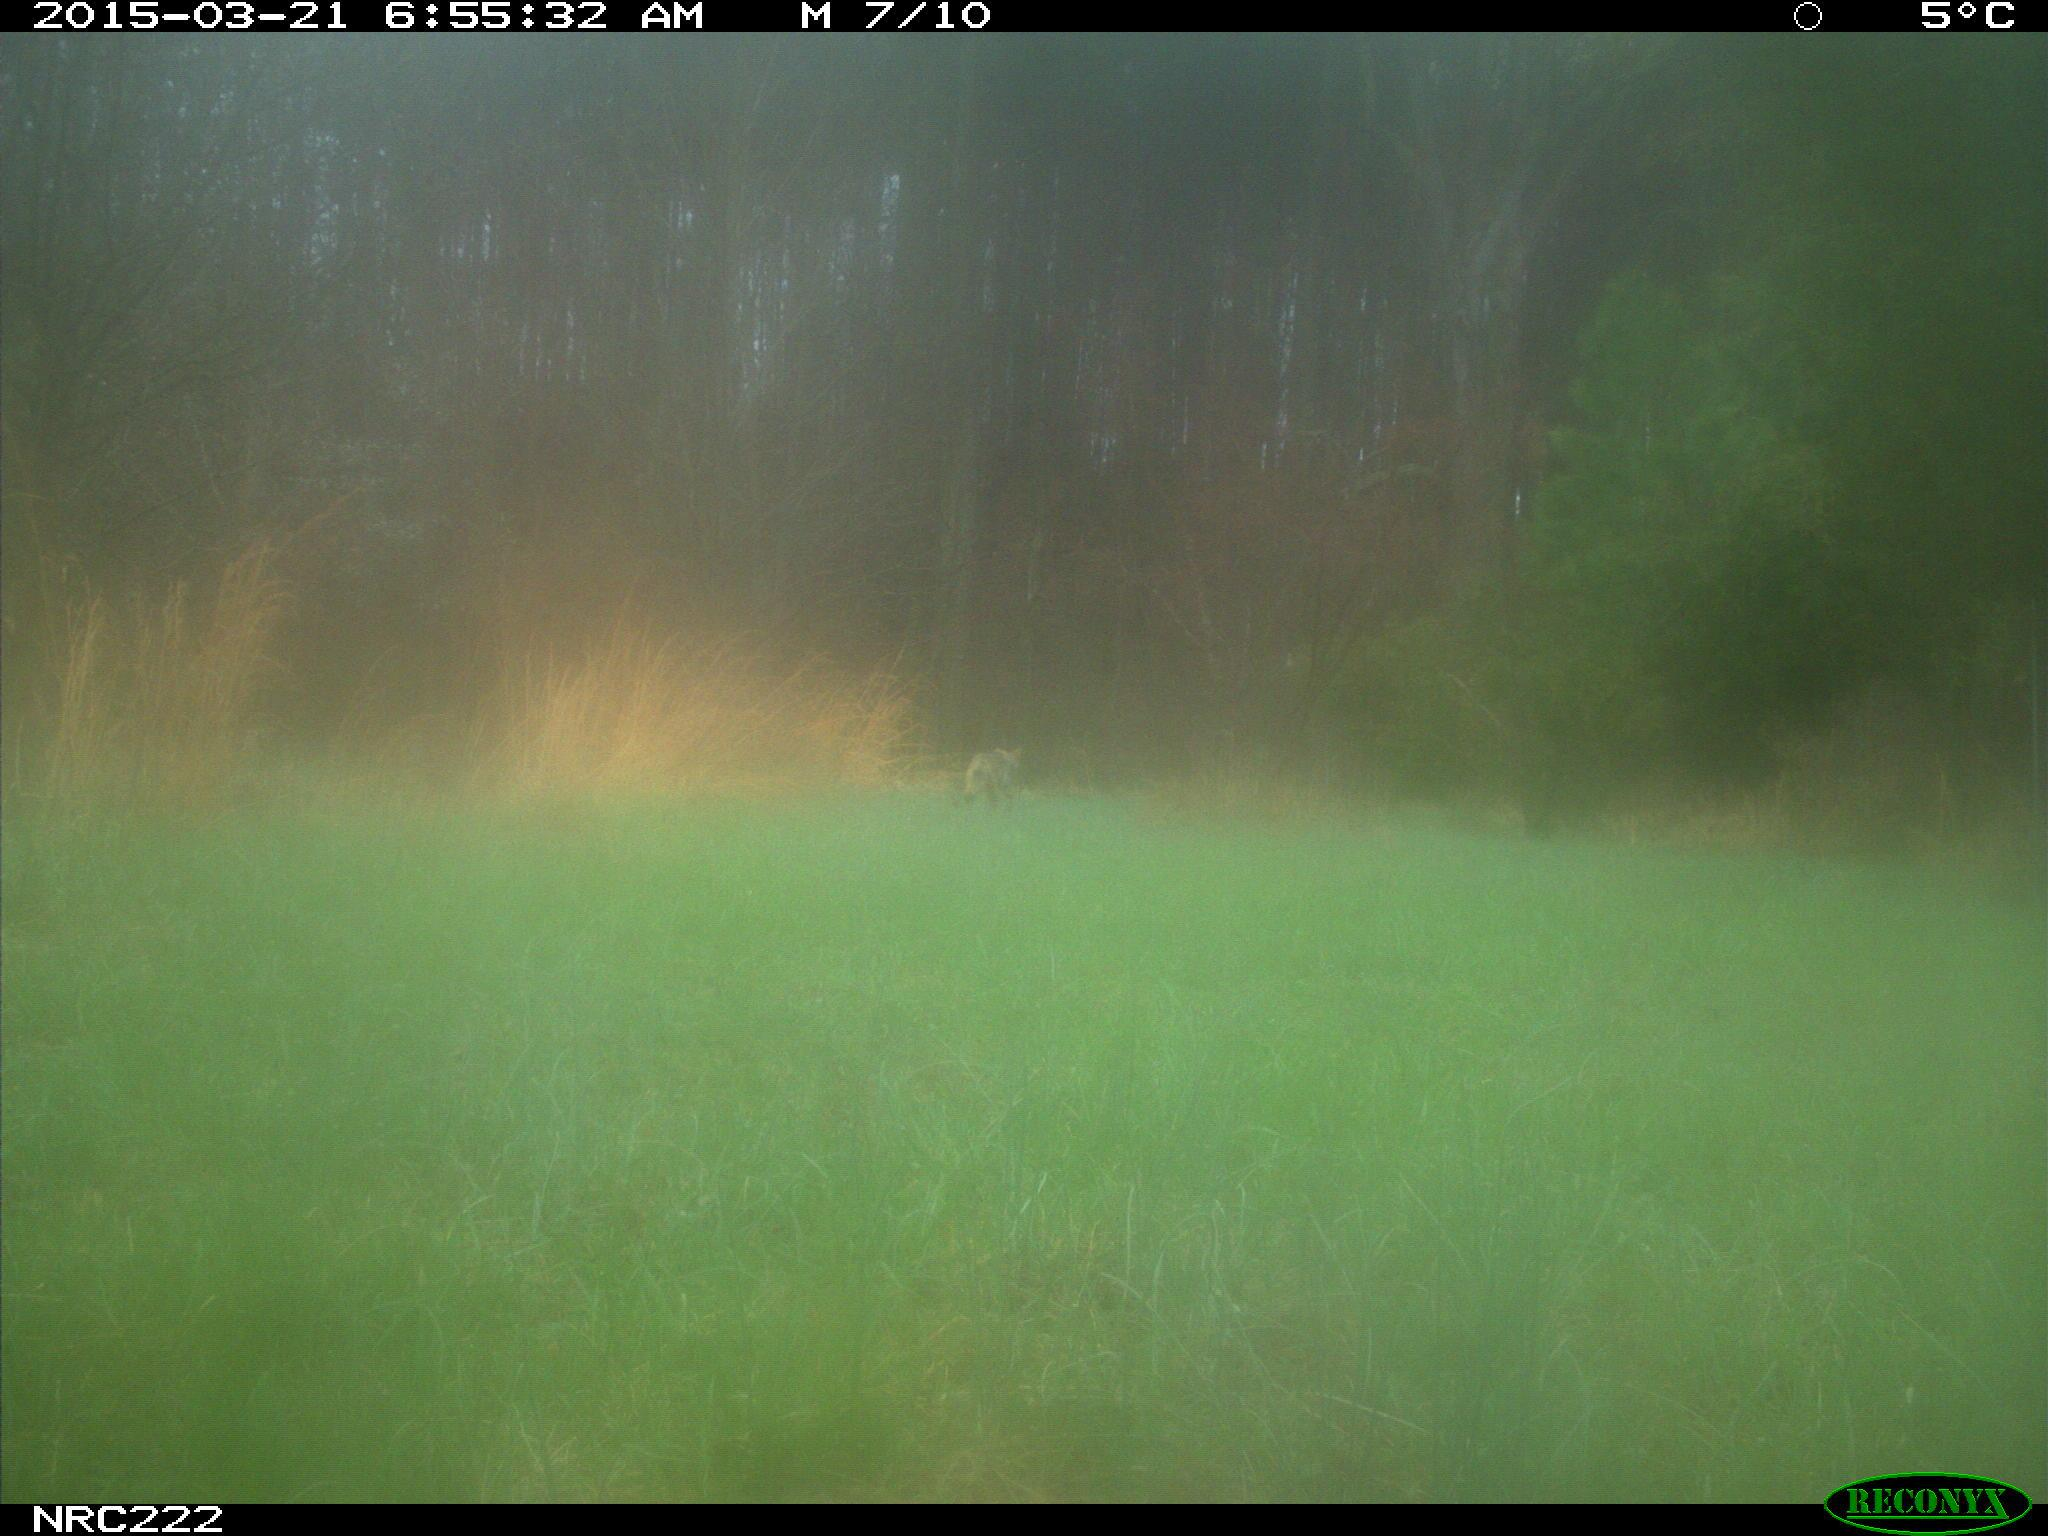Animal: (956, 745, 1024, 812)
